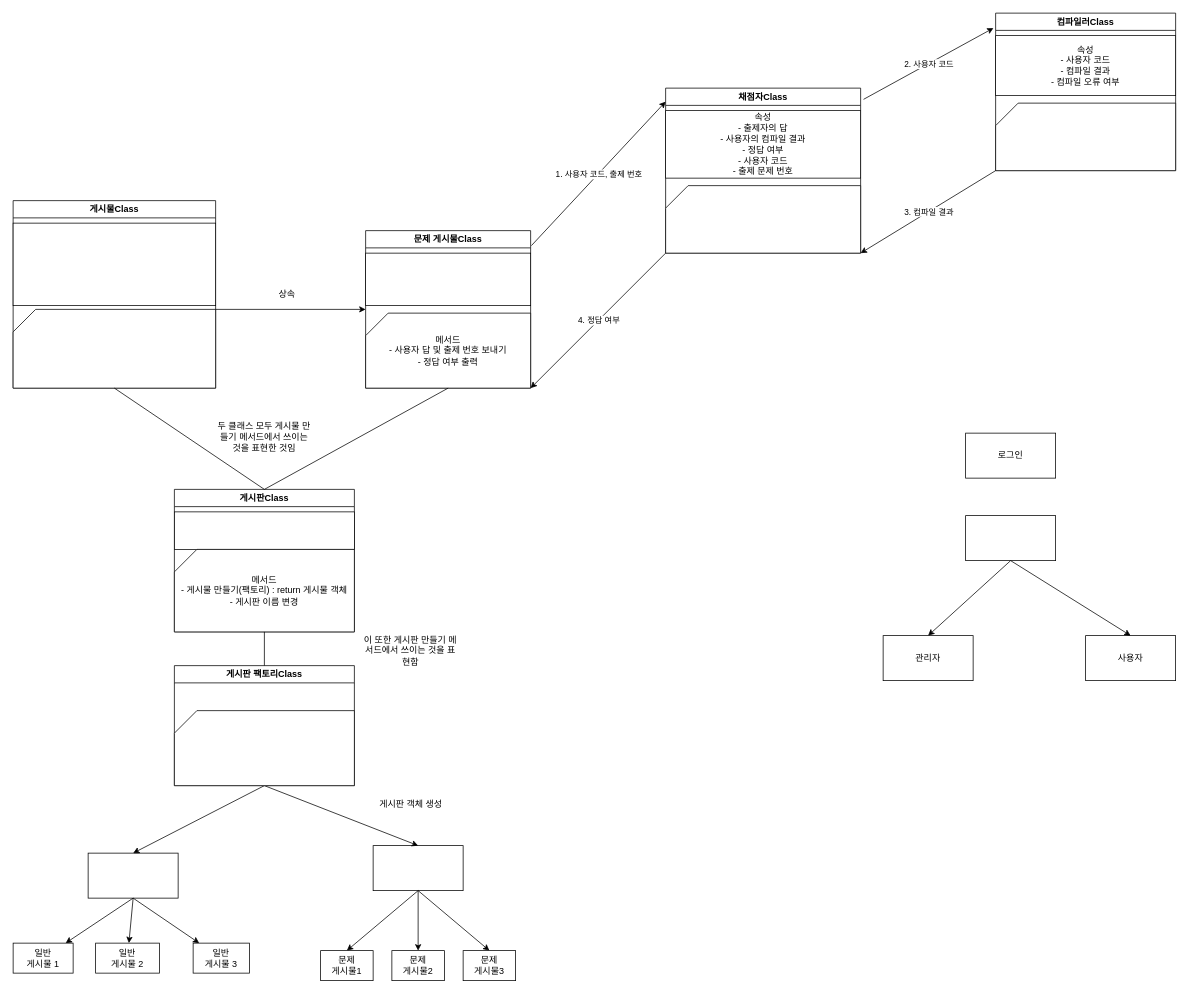
The diagram is 1189 pixels wide and 994 high, and some of its shapes have lost their labels. Here are the shapes that lost their labels. From the top down, the centre of each, then its label:
pixel 1085 136: 메서드 - 사용자 코드 컴파일 및 결과 저장 - 컴파일 결과 전송 : return 컴파일 결과
pixel 763 219: 메서드 - 출제 문제 답 조회 - 사용자 코드 전달 - 정답 여부 확인 : return 정답여부
pixel 114 264: 속성 - 게시물 제목 - 게시자 이름 - 생성 시간 - 댓글 - 게시물 내용
pixel 448 279: 속성 - 사용자의 답 - 문제 정답 여부 : 정답/오답 - 출제 문제 번호
pixel 114 348: 메서드 - 게시물 제목 변경 - 게시물 내용 변경 - 댓글 달기
pixel 264 530: 속성 - 게시판 이름
pixel 1010 538: 인간
pixel 264 748: 메서드 - 게시판 만들기(팩토리) : return 게시판 객체
pixel 132 875: 자유 게시판
pixel 417 868: 문제 게시판
